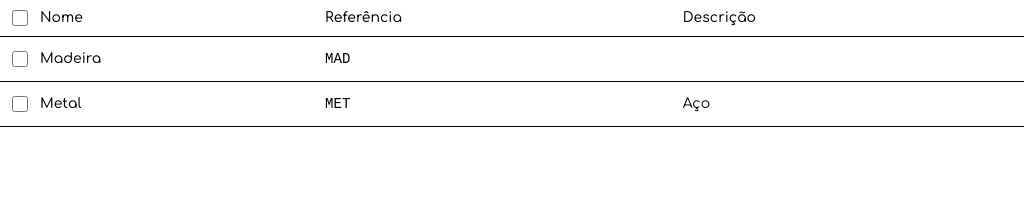
CategoryListTableFrame bulk delete › shows bulk delete after selecting a category
Click the checkbox named "Selecionar Madeira". click: x=20, y=59
box: x1=12 y1=51 x2=28 y2=67
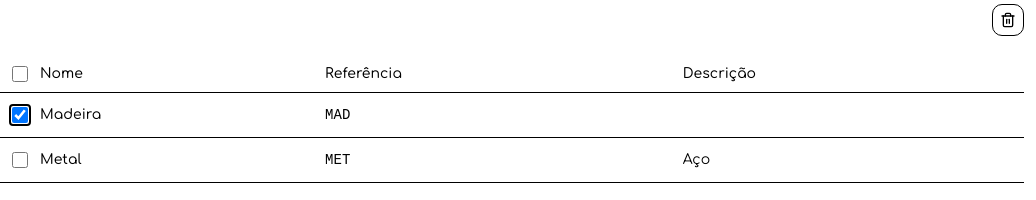
Check: the button named "Excluir selecionadas" is shown, box x1=992 y1=4 x2=1024 y2=36
